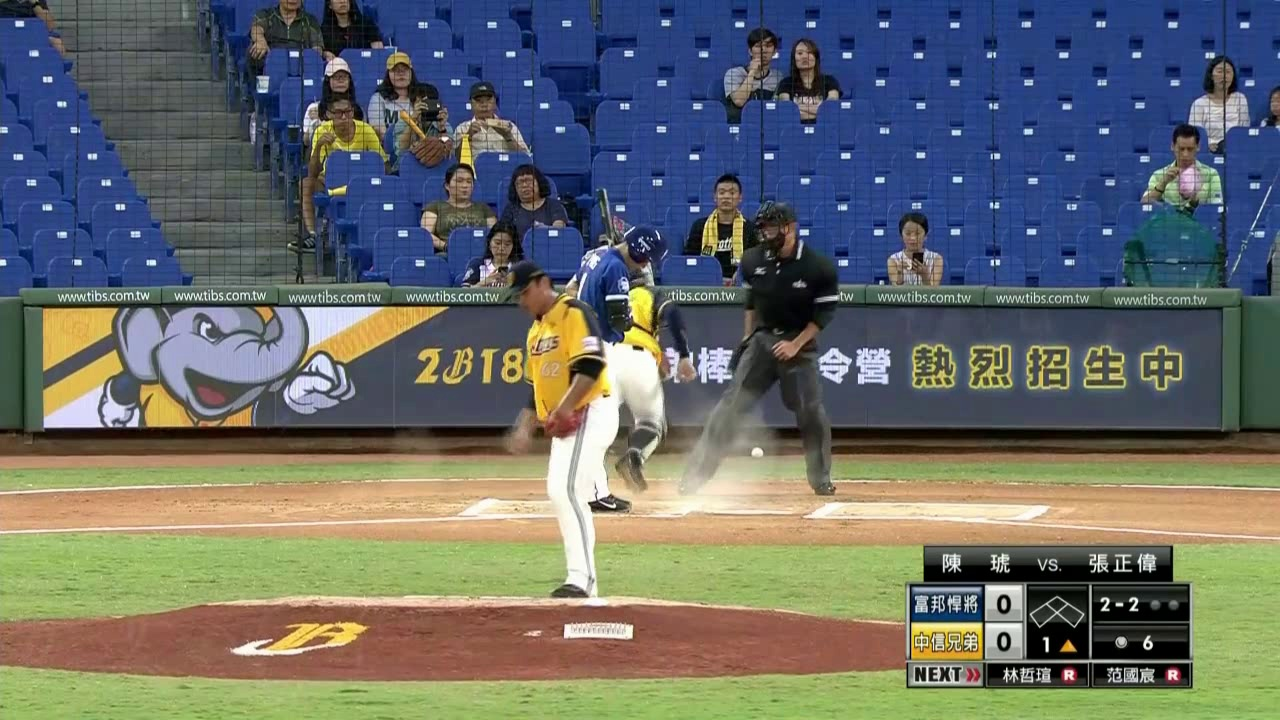ball: (753, 448, 763, 461)
base: (1026, 586, 1087, 633)
bat: (597, 191, 614, 245)
out: (1146, 589, 1185, 617)
score1: (987, 588, 1020, 621)
score2: (984, 626, 1018, 658)
session: (1022, 630, 1090, 658)
strikeball: (1095, 591, 1145, 616)
total: (1107, 631, 1158, 656)
